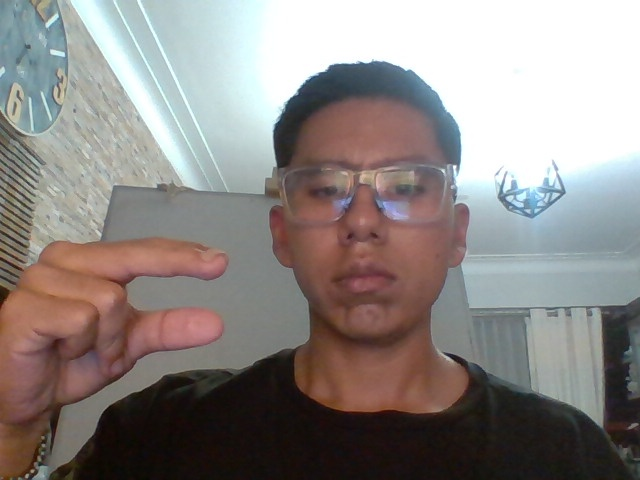No: (2, 234, 226, 426)
